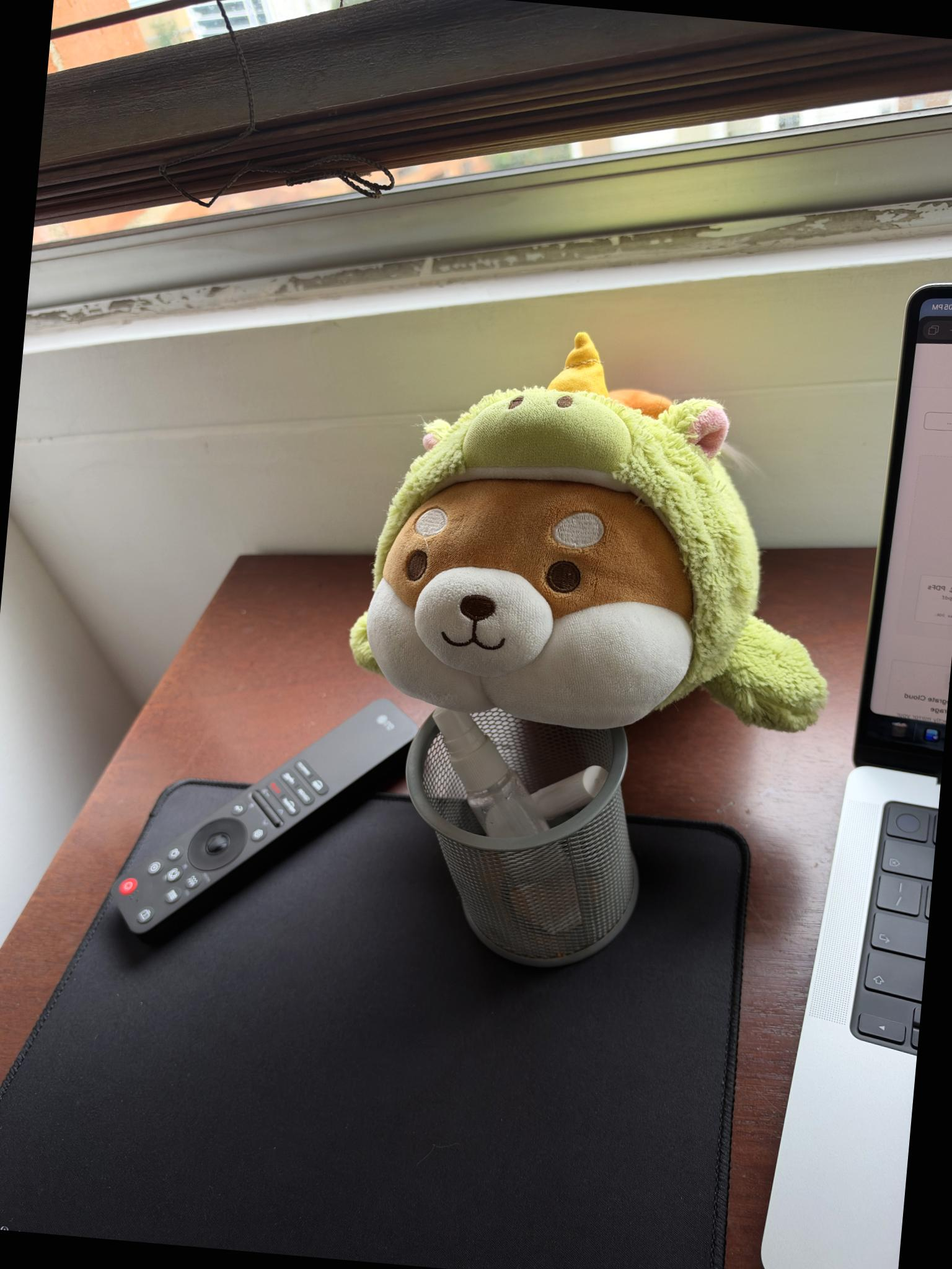peluche_martin: (341, 312, 860, 752)
